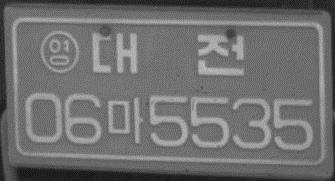0: (23, 91, 64, 144)
3: (232, 96, 272, 150)
5: (147, 93, 188, 147), (188, 94, 229, 148), (273, 96, 313, 151)
6: (62, 92, 102, 145)
대전_D: (90, 29, 247, 78)
마: (106, 96, 145, 145)
영: (39, 29, 81, 74)
